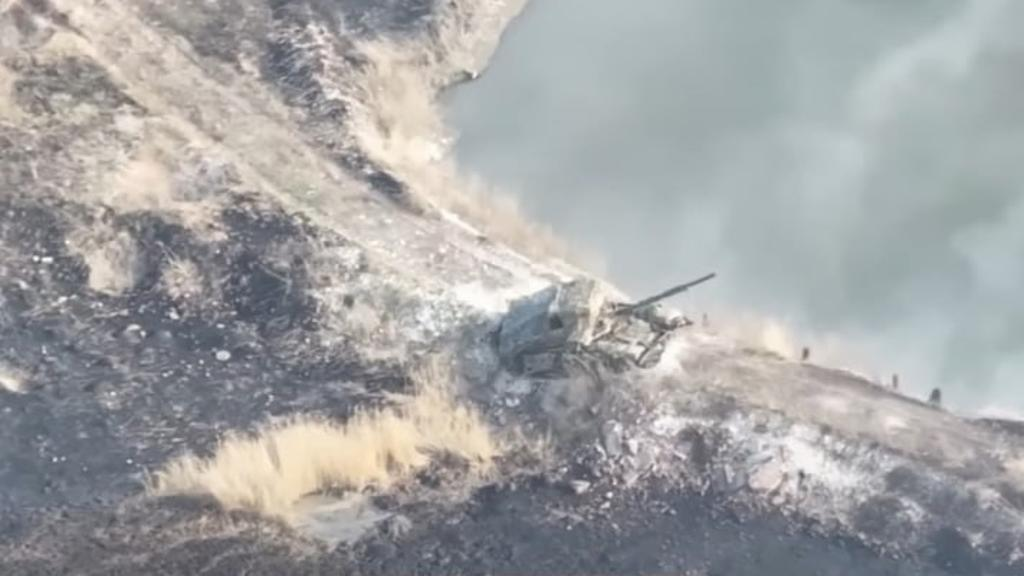TANK: (493, 267, 720, 385)
